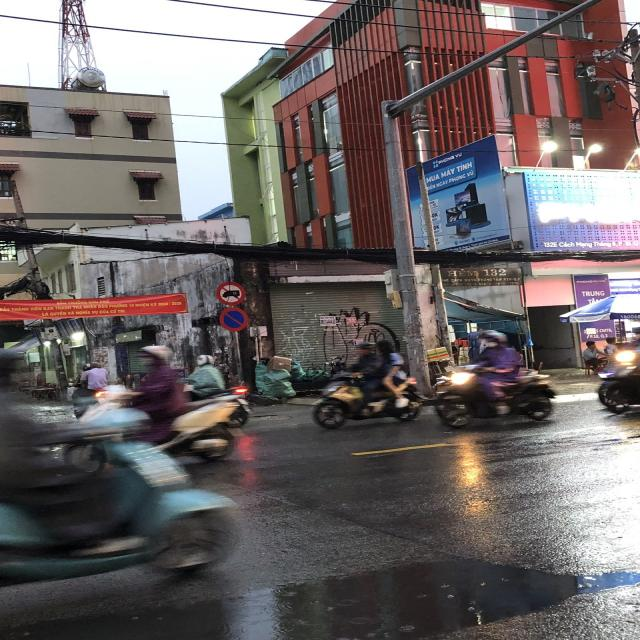Bien bao cam do xe: (215, 306, 252, 332)
Bien bao cam xe oto tai: (212, 280, 248, 306)
